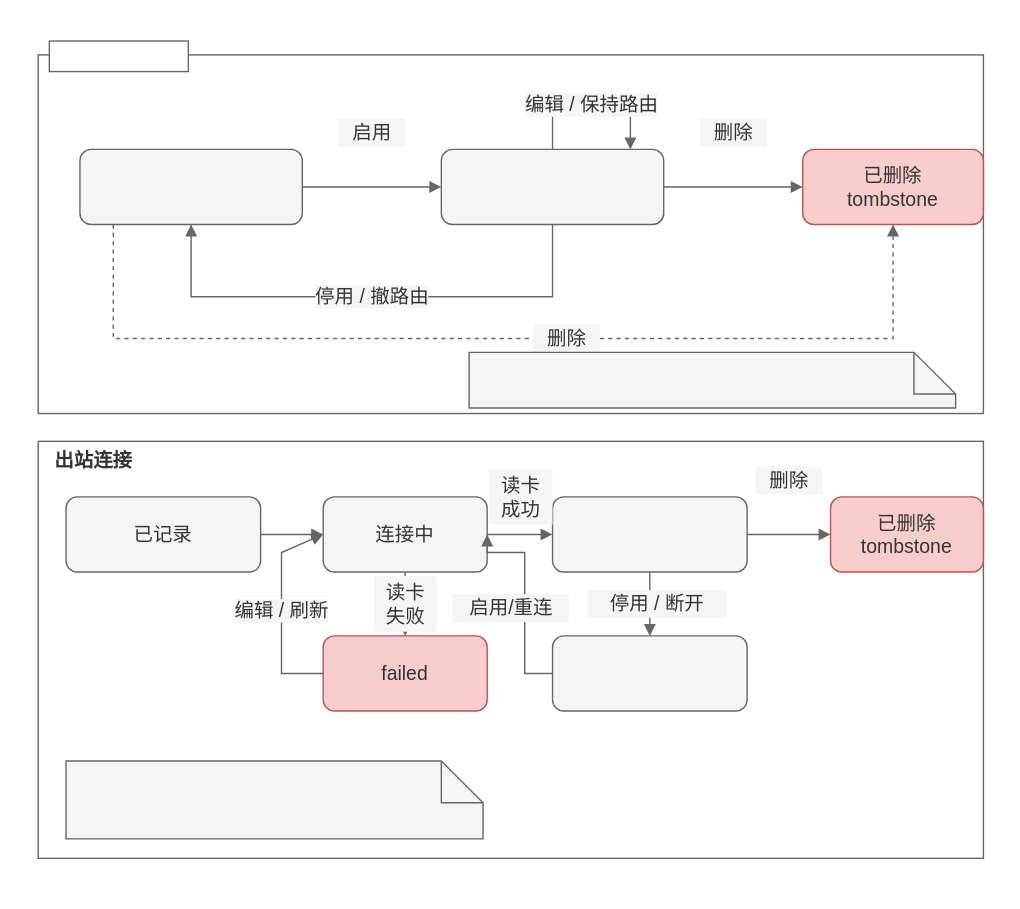
Some shapes in this 1020 by 909 pixel diagram are drawn without their labels. The box of each missing label's shape, as (x1, y1, x2, y2) in pixels:
connected: (551, 496, 747, 572)
disconnected: (551, 635, 747, 711)
入站实例: (48, 40, 188, 72)
已启用 路由挂上: (440, 148, 664, 224)
已持久化 未启用: (79, 148, 302, 224)
重启只恢复记录：活连接、 活会话与 SSE 都不恢复: (65, 760, 483, 839)
重启：按记录重建，启用者重新挂路由: (468, 351, 956, 408)
